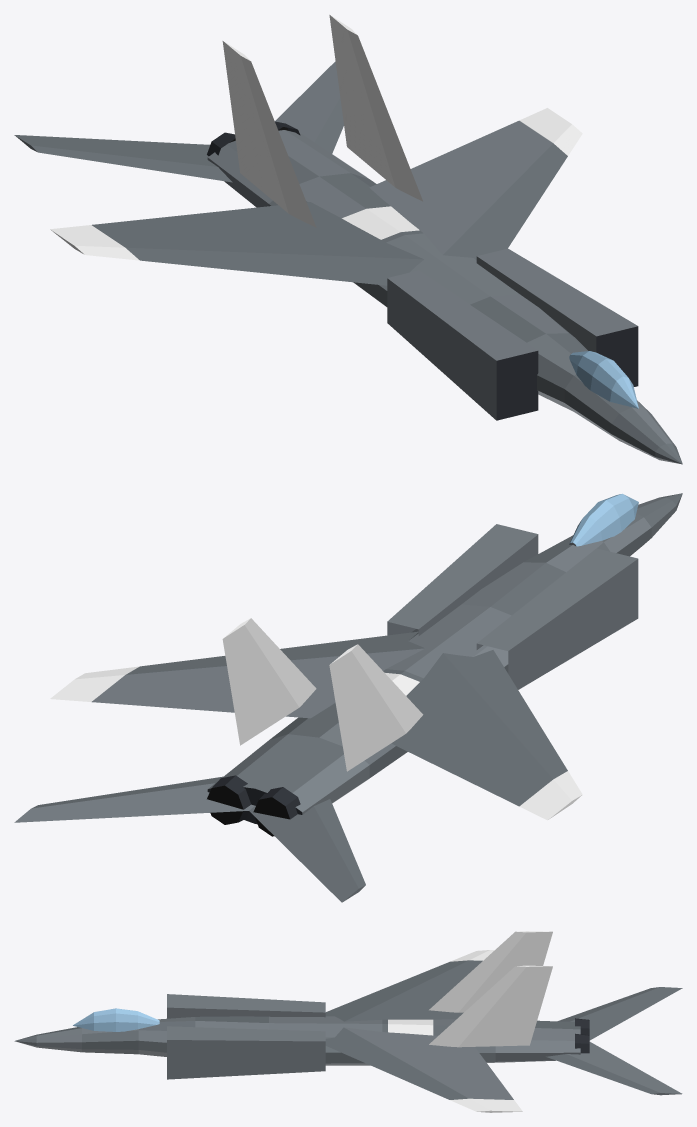
The picture shows the model from 3 angles, top to bottom: view 1: azimuth 30°, elevation 25°; view 2: azimuth 150°, elevation 25°; view 3: azimuth 270°, elevation 25°; orthographic projection. The views are drawn at different scales.
Visible parts, largest first — view 1: body; view 2: body; view 3: body.
Boxes of the visible parts, x1,y1,x2,y2 form: body: [14, 14, 682, 464]; body: [14, 493, 682, 902]; body: [14, 931, 682, 1112].
Bounding box in the file's own units: 13.05 × 4.16 × 22.93.
